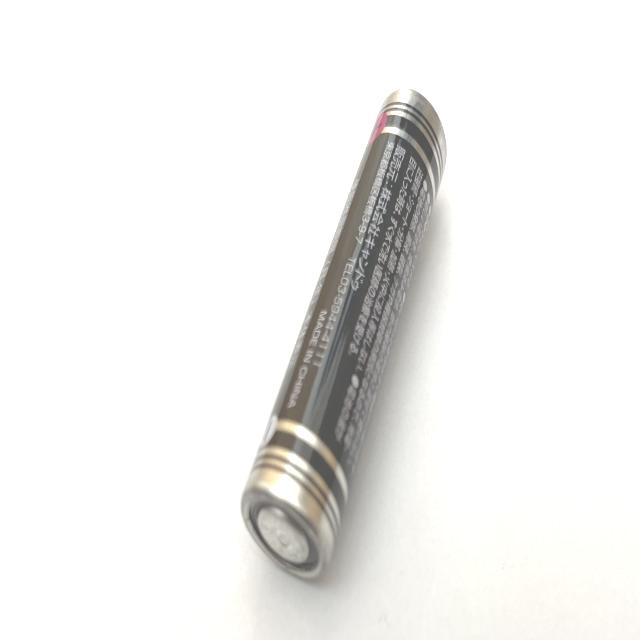AAA: (239, 87, 449, 589)
